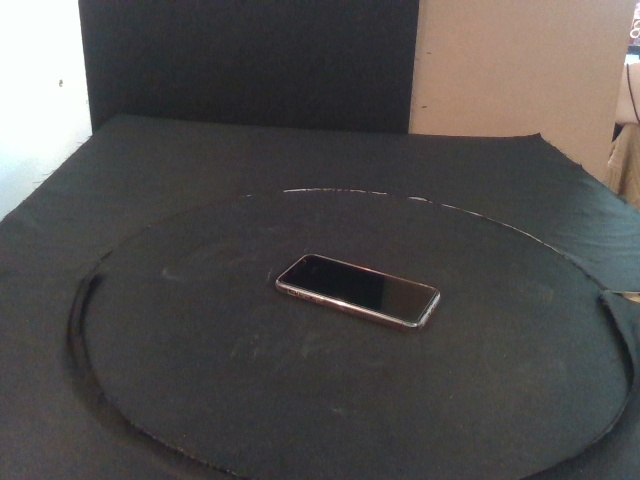phone: (274, 253, 442, 333)
